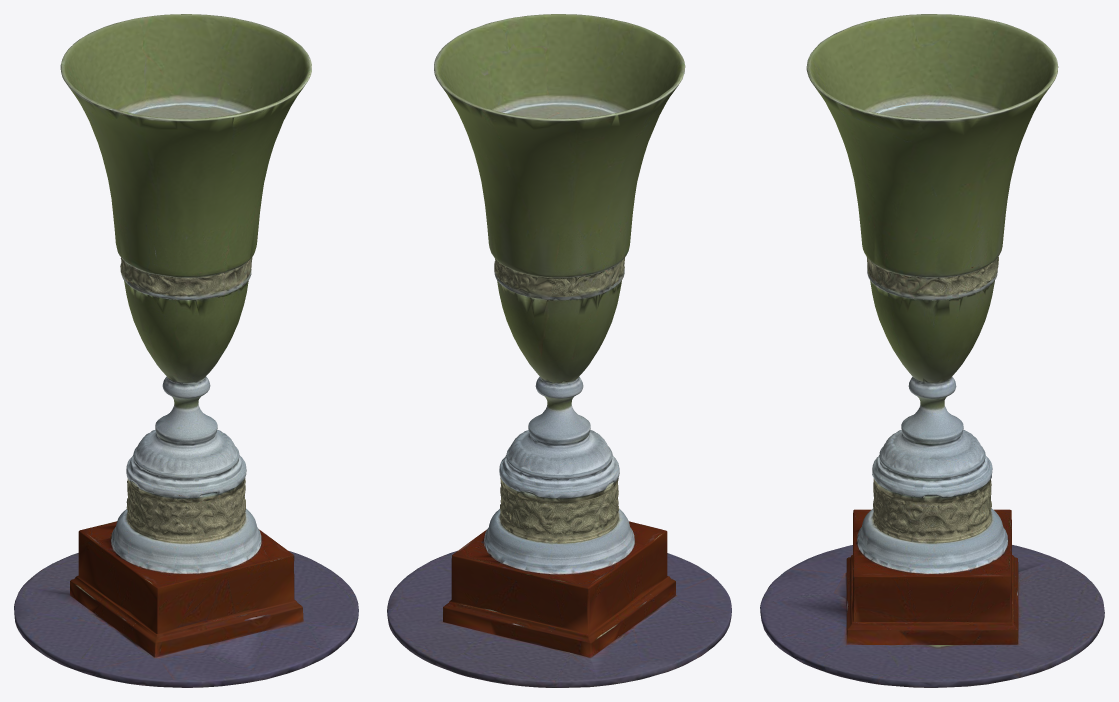
The model's file is f-seriea.glb.
The picture shows the model from 3 angles, left to right: view 1: azimuth 30°, elevation 25°; view 2: azimuth 150°, elevation 25°; view 3: azimuth 270°, elevation 25°; orthographic projection.
Size of the model in its own units: 1.08 by 1.9 by 1.08.
1 material, 1 textured.
